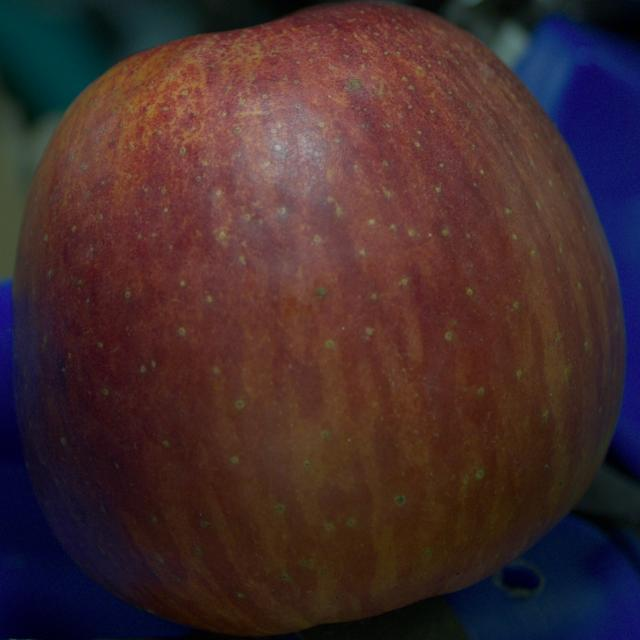apple: (13, 2, 626, 635)
